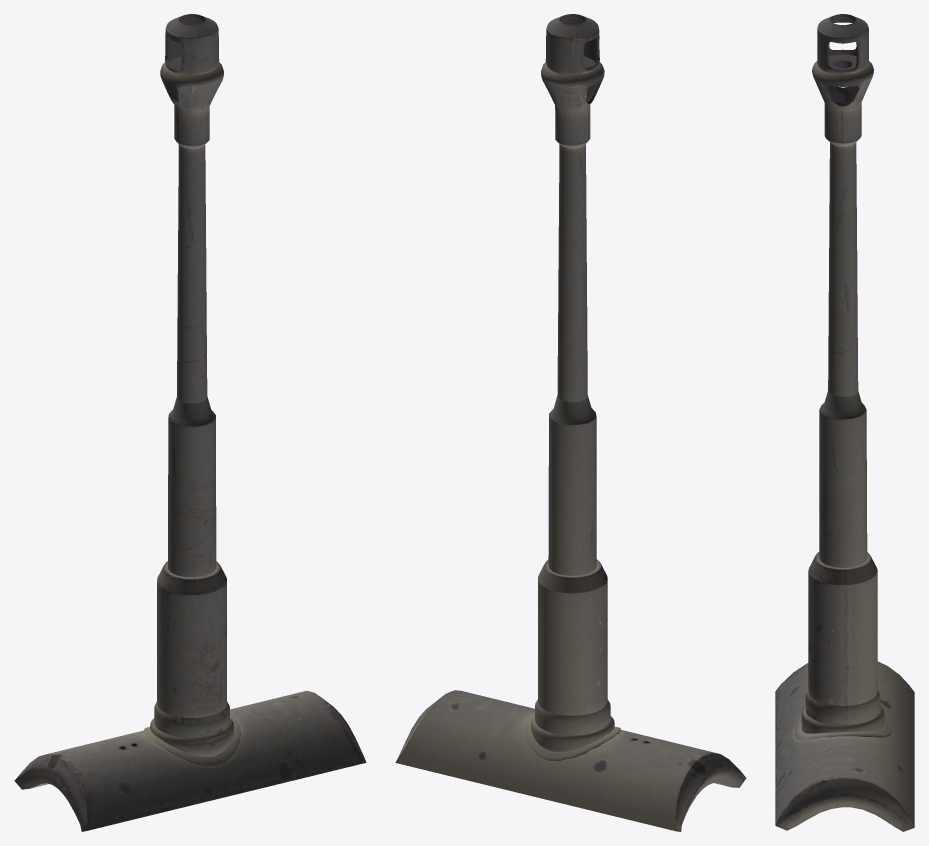
The model's file is Gun_07.glb.
3 views of the same model, side by side, from view 1: azimuth 30°, elevation 25°; view 2: azimuth 150°, elevation 25°; view 3: azimuth 270°, elevation 25° (orthographic).
Visible parts, largest first — view 1: set_0_group_0; view 2: set_0_group_0; view 3: set_0_group_0.
Boxes of the visible parts, x1,y1,x2,y2 form: set_0_group_0: (14, 14, 366, 831); set_0_group_0: (395, 14, 746, 831); set_0_group_0: (775, 14, 914, 831).
Size of the model in its own units: 1.54 by 3.95 by 0.6704.
Materials: 1 (1 with a texture image).
